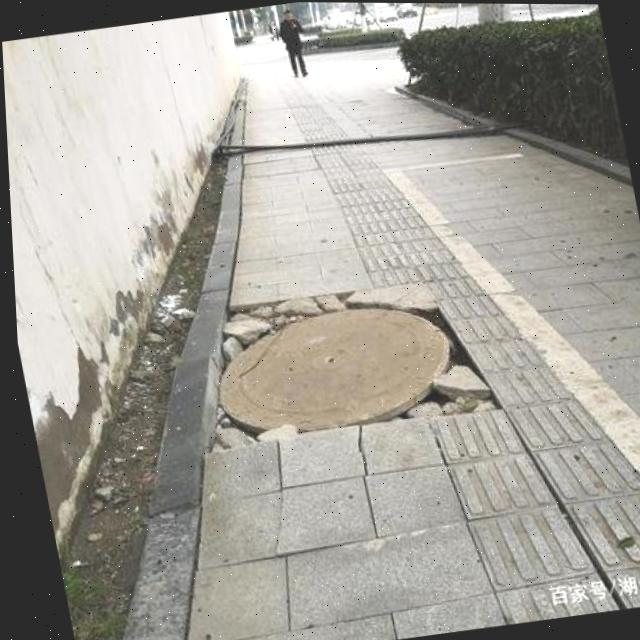manhole: (192, 259, 507, 464)
